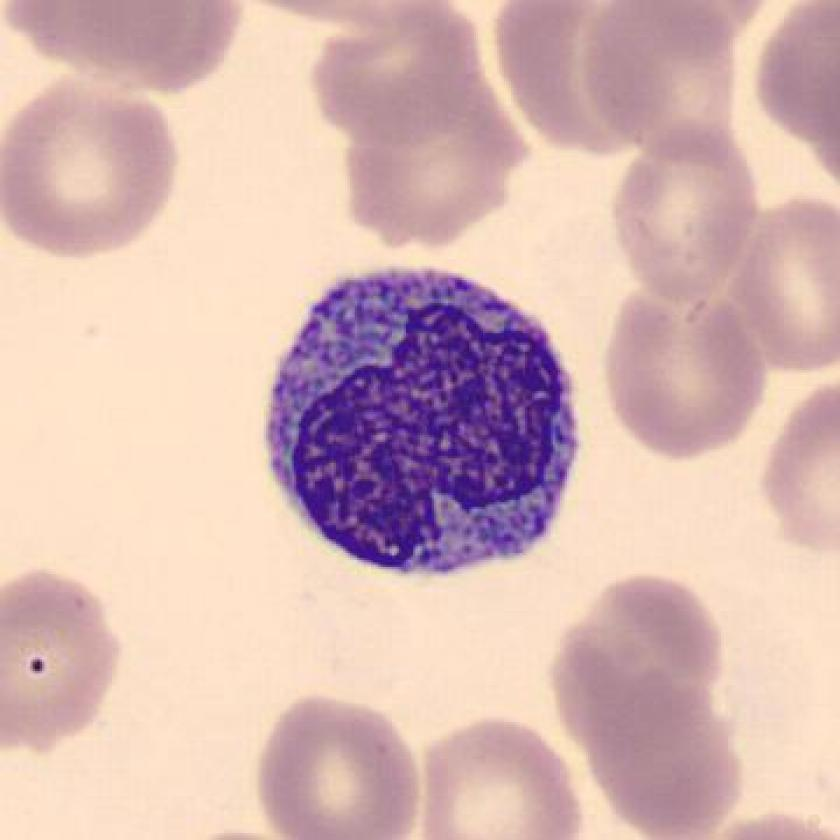monocyte: (246, 246, 608, 603)
